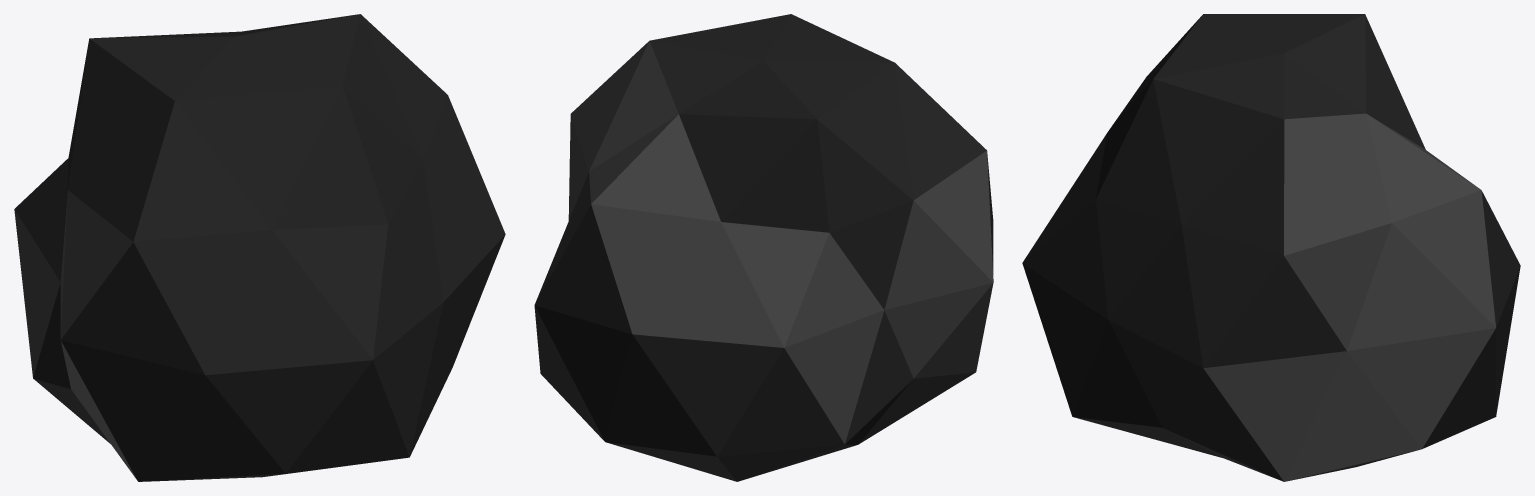
File: rock_1_full.fbx
The picture shows the model from 3 angles, left to right: view 1: azimuth 30°, elevation 25°; view 2: azimuth 150°, elevation 25°; view 3: azimuth 270°, elevation 25°; orthographic projection. The views are drawn at different scales.
Visible parts, largest first — view 1: Icosphere; view 2: Icosphere; view 3: Icosphere.
Part boxes in pixels (x1,y1,x2,y2): Icosphere: (14, 14, 505, 481); Icosphere: (534, 14, 993, 481); Icosphere: (1022, 14, 1520, 481).
Size of the model in its own units: 99.43 by 91.8 by 103.
